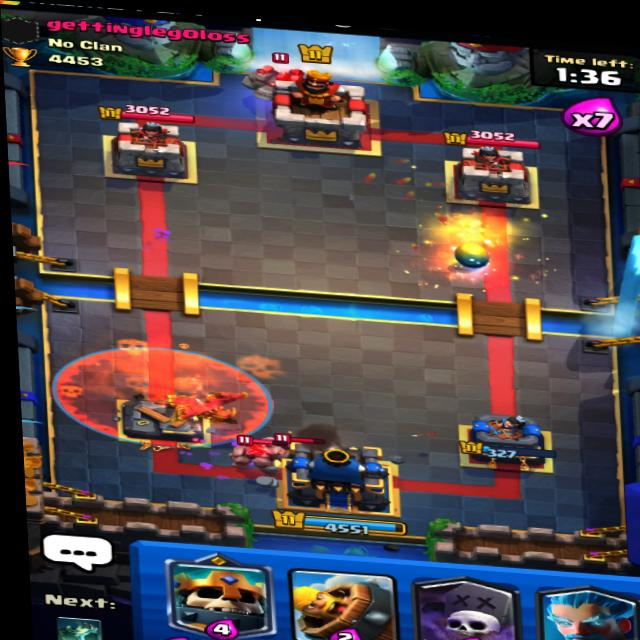Golem: (232, 51, 330, 116), (225, 432, 290, 478)
